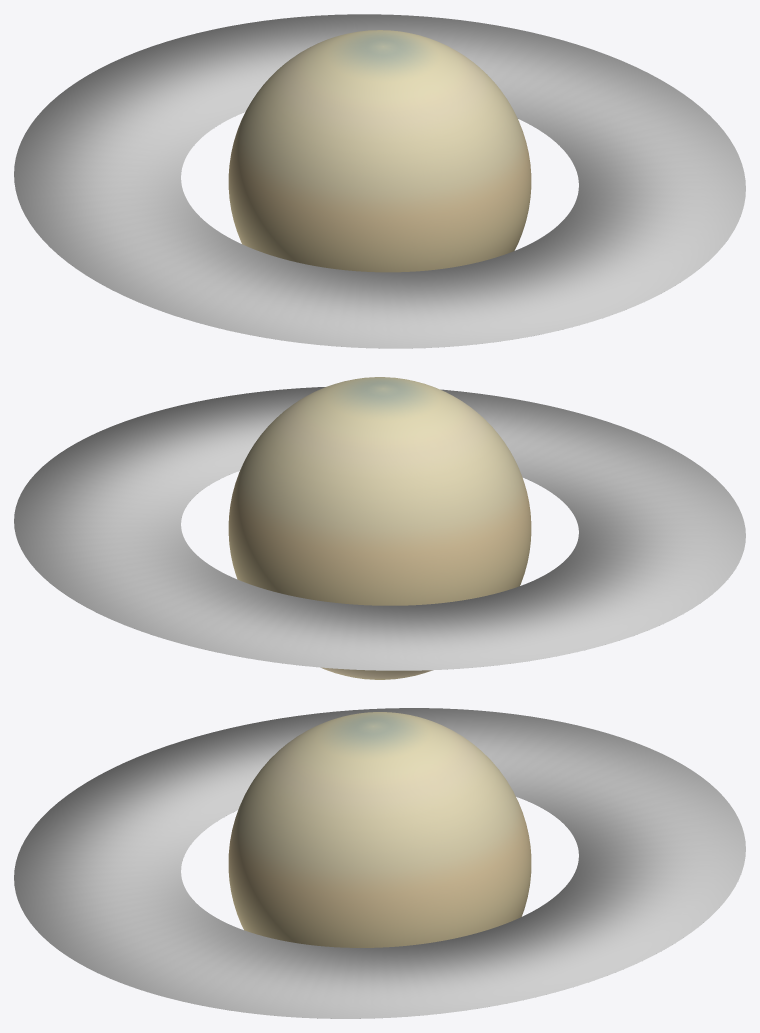
File: Saturn.fbx
The picture shows the model from 3 angles, top to bottom: view 1: azimuth 30°, elevation 25°; view 2: azimuth 150°, elevation 25°; view 3: azimuth 270°, elevation 25°; orthographic projection.
Visible parts, largest first — view 1: SaturnRings, SaturnAtmosphere; view 2: SaturnRings, SaturnAtmosphere; view 3: SaturnRings, SaturnAtmosphere.
Boxes of the visible parts, box(x1,y1,x2,y2) form: SaturnRings: box(14, 14, 745, 348); SaturnAtmosphere: box(228, 30, 531, 272); SaturnRings: box(14, 387, 745, 670); SaturnAtmosphere: box(228, 377, 531, 679); SaturnRings: box(14, 708, 745, 1018); SaturnAtmosphere: box(228, 712, 531, 947).
Size of the model in its own units: 246 by 102 by 246.
